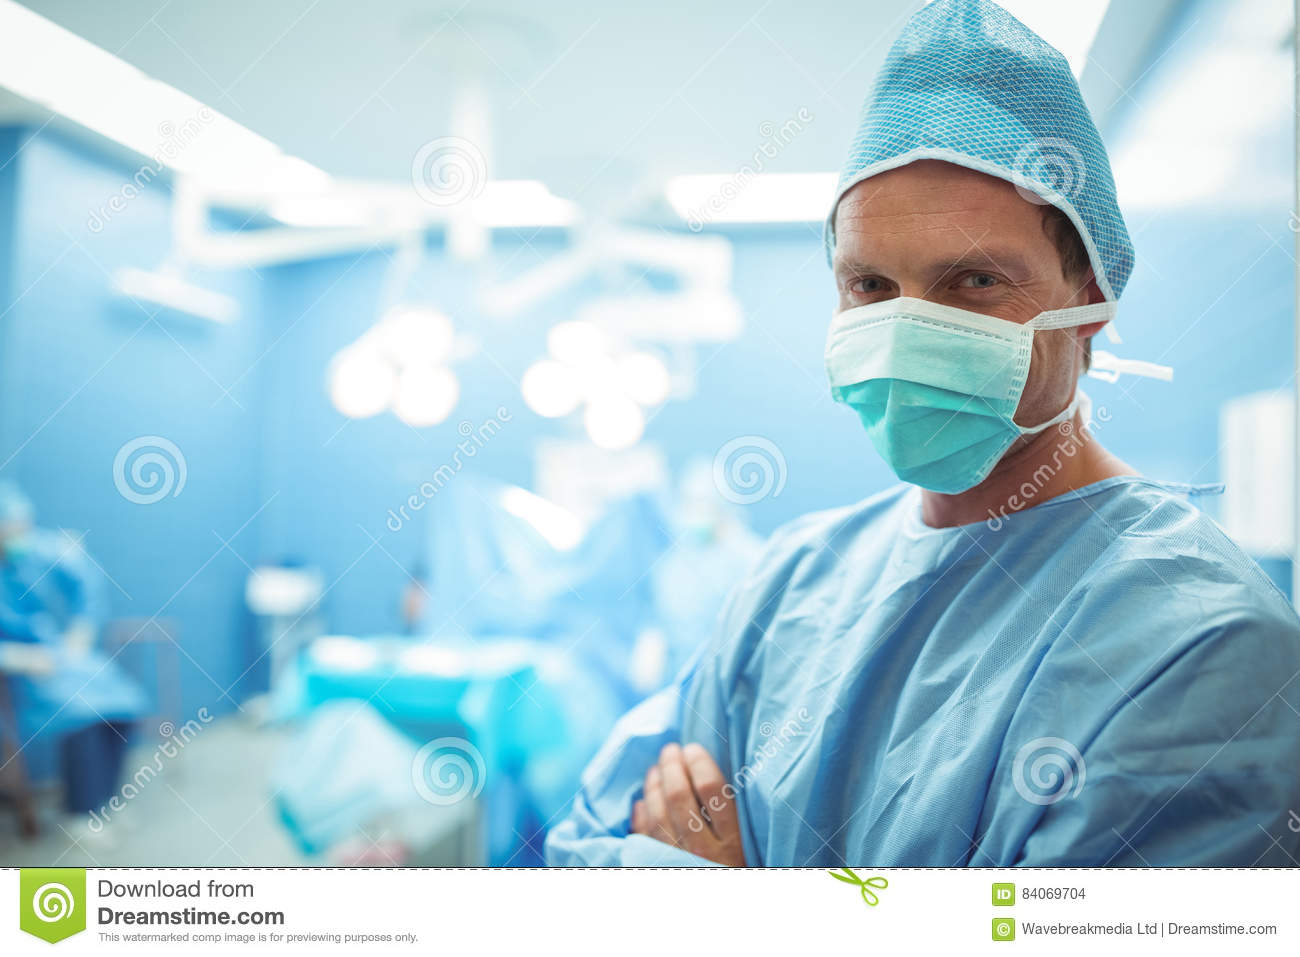mask: (823, 308, 1050, 510)
